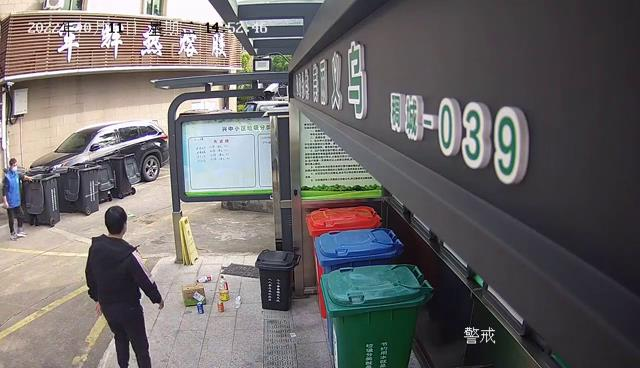lvzhipin: (196, 301, 205, 314), (216, 300, 225, 312)
person: (82, 204, 165, 368)
suliaozhipin: (217, 272, 230, 301), (195, 273, 213, 283)
worker: (1, 157, 34, 241)
zhizhipin: (180, 281, 207, 307)
